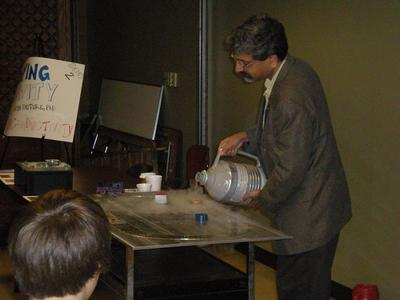person: (218, 14, 352, 300)
